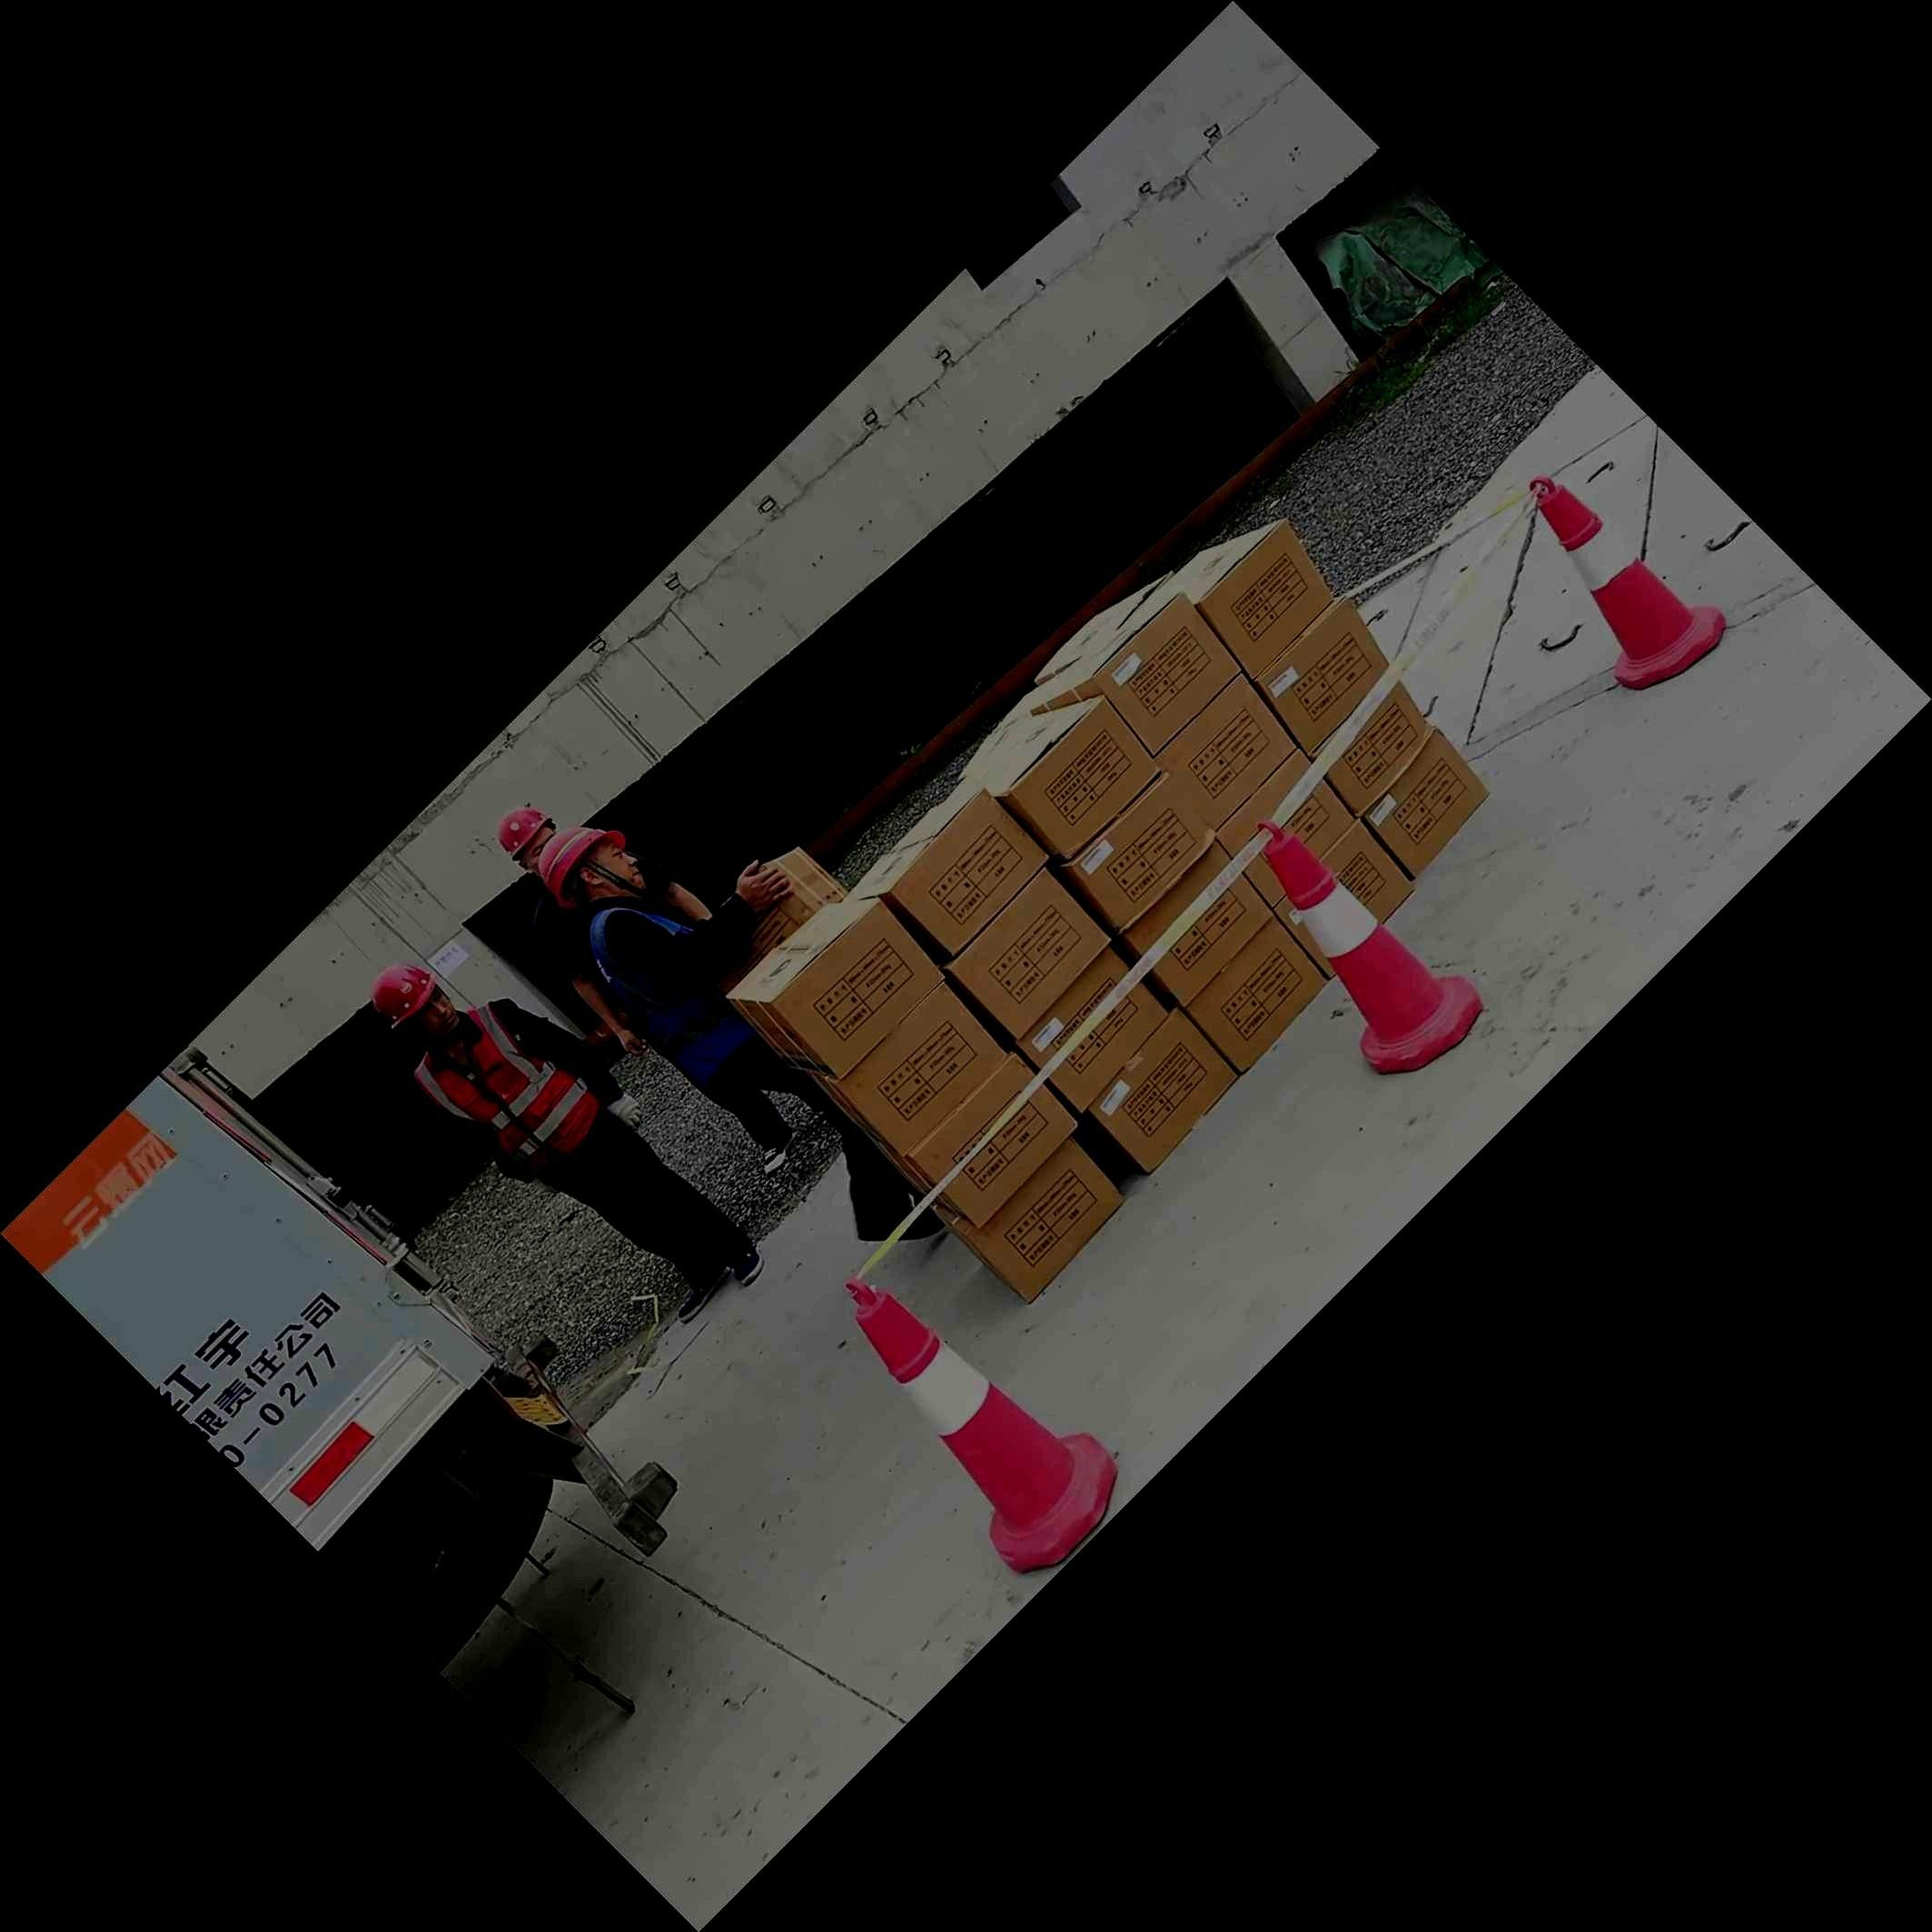helmet: (538, 826, 646, 908), (370, 962, 460, 1035), (497, 805, 557, 878)
